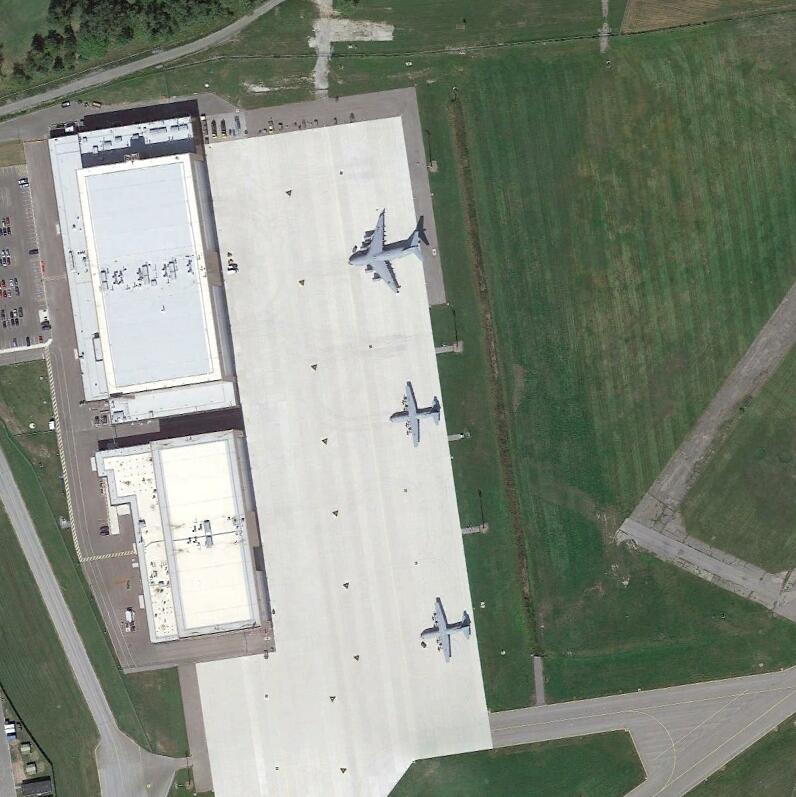A2: (378, 377, 447, 453), (409, 595, 478, 666)
A3: (348, 212, 427, 296)
